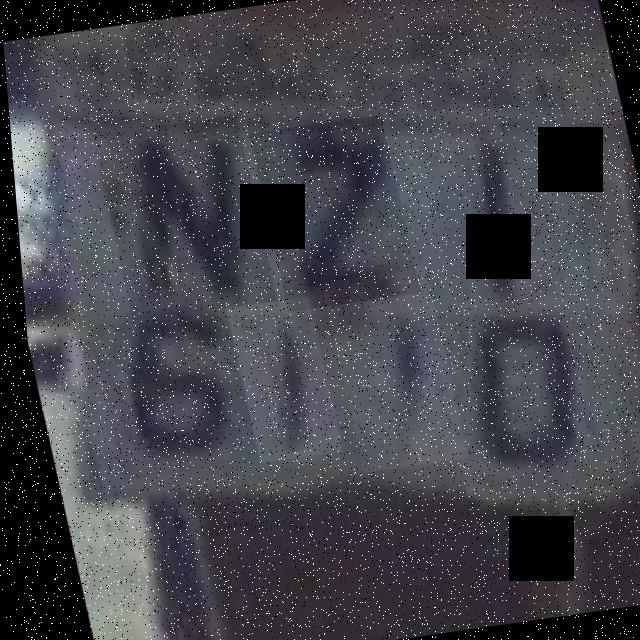0: (436, 280, 609, 484)
1: (316, 268, 462, 472), (220, 297, 336, 463)
6: (77, 284, 254, 482)
I: (414, 114, 565, 304)
N: (88, 115, 274, 321)
Z: (245, 115, 417, 312)
